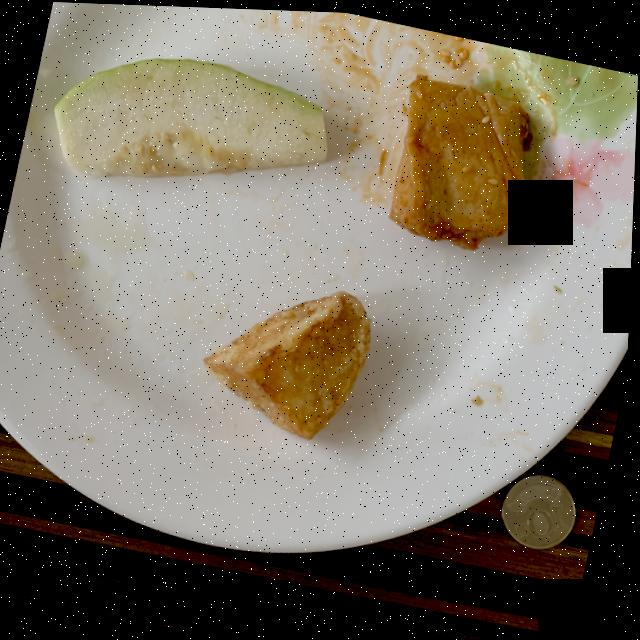coin: (504, 470, 578, 544)
creamy tofu: (389, 71, 529, 246)
fried potato: (205, 288, 372, 436)
guava -sliced-: (54, 57, 327, 176)
